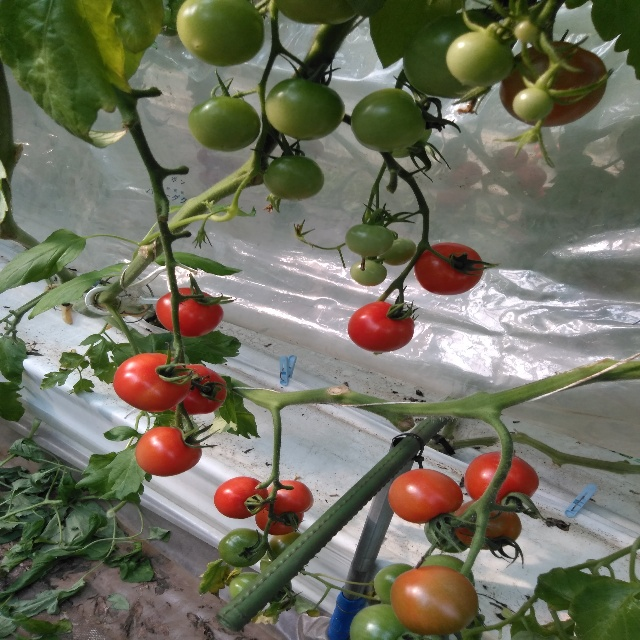l_fully_ripened: (114, 353, 192, 413), (464, 451, 539, 508), (414, 242, 484, 296), (155, 287, 224, 338), (134, 426, 202, 477), (348, 302, 415, 353), (170, 364, 227, 416), (214, 477, 268, 519), (265, 480, 314, 514), (255, 508, 304, 536)
l_green: (404, 12, 500, 99), (176, 0, 265, 67), (264, 79, 346, 141), (351, 88, 425, 153), (188, 96, 261, 152), (446, 30, 513, 86), (262, 155, 324, 201), (349, 603, 413, 640), (274, 0, 357, 25), (218, 527, 268, 568), (418, 554, 475, 588), (424, 513, 470, 553), (373, 563, 416, 605), (345, 224, 394, 257), (511, 88, 554, 122), (378, 237, 417, 266), (267, 531, 302, 562), (351, 260, 388, 287), (230, 572, 260, 600), (515, 21, 542, 42)
l_half_ripened: (500, 41, 609, 128), (390, 565, 478, 636), (387, 468, 464, 523), (452, 499, 522, 549)
